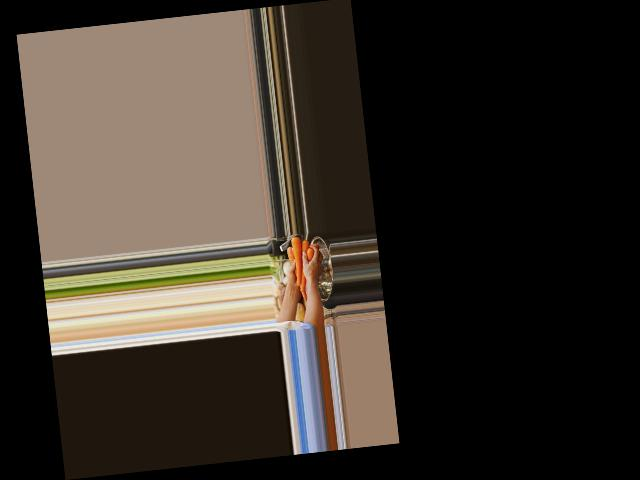carrot: (293, 239, 313, 294)
